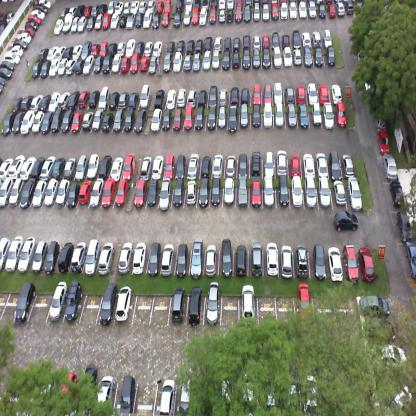car: (382, 383, 413, 415), (57, 372, 79, 416), (61, 289, 86, 326), (240, 370, 260, 415), (358, 293, 391, 319), (46, 290, 69, 326), (82, 364, 98, 415), (369, 346, 406, 368), (4, 232, 24, 272), (96, 288, 118, 324), (178, 371, 196, 415), (16, 235, 36, 273), (354, 240, 374, 277), (158, 374, 176, 415), (114, 289, 136, 322), (97, 375, 115, 415), (168, 291, 189, 325), (13, 289, 36, 320), (119, 372, 135, 416), (364, 320, 396, 342), (145, 240, 165, 275), (324, 242, 342, 280), (202, 293, 221, 329), (396, 210, 415, 246), (41, 239, 60, 273), (68, 240, 87, 274), (219, 377, 236, 415), (296, 282, 312, 322), (31, 238, 48, 275), (303, 374, 318, 415), (76, 176, 94, 210), (144, 177, 162, 211), (293, 243, 311, 277), (53, 241, 72, 273), (187, 292, 204, 327), (82, 240, 100, 273), (340, 241, 356, 278), (88, 174, 105, 208), (278, 244, 295, 278), (310, 242, 326, 278), (285, 380, 301, 416), (388, 178, 406, 210), (334, 208, 358, 232), (160, 241, 177, 274), (174, 243, 191, 276), (203, 241, 218, 278), (170, 176, 186, 210), (188, 242, 204, 276), (263, 243, 279, 277), (344, 176, 362, 206), (234, 241, 249, 277), (65, 176, 81, 209), (113, 177, 129, 210), (156, 178, 172, 211), (132, 240, 148, 273), (217, 242, 233, 275), (241, 284, 254, 324), (100, 178, 116, 210), (96, 244, 113, 274), (248, 240, 263, 274), (381, 152, 398, 182), (316, 177, 332, 208), (30, 178, 46, 209), (20, 178, 36, 209), (8, 178, 24, 209), (265, 378, 278, 416), (314, 148, 330, 178), (118, 242, 134, 272), (43, 178, 59, 207), (404, 242, 416, 280), (133, 177, 146, 212), (73, 154, 91, 179), (8, 154, 26, 179), (341, 149, 357, 177), (54, 178, 70, 206), (84, 153, 101, 179), (20, 154, 37, 180), (330, 179, 345, 208), (197, 179, 211, 210), (288, 180, 304, 207), (122, 106, 137, 134), (288, 147, 302, 177), (301, 148, 315, 178), (235, 179, 249, 209), (262, 178, 276, 208), (276, 179, 290, 209), (90, 106, 106, 132), (96, 154, 112, 180), (38, 154, 55, 178), (328, 148, 342, 177), (209, 180, 223, 209), (376, 126, 390, 155), (276, 148, 289, 179), (304, 178, 317, 209), (0, 177, 13, 208), (122, 155, 138, 180), (29, 155, 45, 180), (101, 107, 115, 135), (112, 107, 126, 135), (332, 101, 347, 127), (186, 152, 201, 178), (20, 109, 35, 135), (109, 155, 125, 179), (248, 150, 262, 177), (0, 237, 11, 271), (184, 179, 196, 210), (133, 108, 147, 134), (149, 154, 163, 180), (1, 110, 15, 136), (138, 155, 153, 179), (263, 147, 275, 177), (249, 179, 261, 209), (49, 156, 65, 178), (150, 106, 163, 133), (164, 152, 178, 177), (199, 152, 213, 177), (210, 152, 224, 177), (224, 179, 236, 208), (32, 109, 45, 135), (50, 109, 63, 135), (174, 153, 188, 177), (224, 150, 236, 178), (11, 111, 25, 135), (40, 112, 54, 135), (194, 107, 206, 133), (96, 84, 108, 110), (61, 108, 74, 132), (305, 82, 319, 104), (162, 107, 174, 132), (238, 105, 250, 130), (237, 152, 249, 177), (62, 156, 76, 177), (311, 102, 322, 128), (321, 104, 334, 126), (47, 90, 60, 112), (0, 51, 20, 65), (262, 105, 274, 128), (274, 105, 286, 128), (298, 105, 310, 128), (1, 156, 13, 179), (70, 111, 82, 134), (139, 83, 150, 108), (184, 106, 194, 133), (216, 107, 227, 131), (318, 83, 330, 105), (174, 108, 184, 134), (285, 83, 295, 109), (273, 81, 283, 107), (81, 110, 94, 130), (207, 85, 218, 108), (153, 89, 165, 110), (29, 92, 43, 110), (252, 105, 262, 130), (38, 92, 51, 111), (205, 108, 216, 130), (228, 106, 239, 128), (296, 84, 307, 106), (281, 44, 292, 66), (261, 47, 272, 69), (108, 90, 120, 110), (272, 45, 282, 69), (61, 12, 73, 32), (20, 94, 33, 112), (286, 105, 297, 126), (78, 90, 89, 111), (291, 46, 302, 67), (126, 91, 138, 110), (67, 90, 79, 109), (57, 91, 70, 108), (332, 82, 342, 104), (252, 84, 262, 106), (229, 85, 240, 105), (166, 89, 176, 111), (302, 45, 312, 67), (252, 29, 262, 51), (125, 37, 135, 59), (88, 90, 100, 108), (323, 26, 332, 50), (173, 50, 182, 74), (80, 40, 92, 58), (82, 57, 94, 75), (240, 86, 250, 107), (326, 46, 336, 67), (291, 27, 301, 48), (148, 53, 158, 74), (202, 49, 210, 75), (242, 47, 251, 70), (130, 52, 139, 75), (264, 82, 272, 107), (313, 47, 323, 67), (240, 31, 250, 51), (162, 51, 172, 71), (298, 0, 308, 20), (327, 0, 337, 20), (53, 18, 64, 36), (189, 8, 200, 26), (234, 3, 243, 25), (212, 48, 220, 72), (54, 45, 66, 61), (311, 28, 321, 47), (302, 29, 312, 48), (182, 53, 192, 72), (92, 55, 102, 74), (208, 6, 218, 25), (221, 50, 230, 71), (0, 60, 14, 73), (10, 44, 23, 58), (219, 87, 228, 107), (197, 89, 206, 109), (187, 88, 197, 106), (118, 90, 128, 108), (202, 36, 212, 54), (192, 51, 201, 71), (100, 39, 110, 57), (138, 54, 148, 72), (119, 55, 129, 73), (31, 60, 41, 78), (0, 66, 12, 81), (14, 38, 29, 50), (33, 1, 48, 13), (126, 12, 136, 30), (142, 10, 152, 28), (288, 2, 297, 22), (178, 86, 186, 108), (39, 61, 50, 77), (102, 56, 111, 75), (101, 12, 110, 31), (152, 10, 161, 29), (279, 2, 288, 21), (72, 43, 82, 60), (75, 58, 85, 75), (225, 7, 235, 24), (18, 31, 31, 44), (31, 8, 45, 20), (109, 14, 120, 29), (194, 38, 203, 56), (198, 8, 207, 26), (308, 0, 317, 18), (336, 0, 345, 18), (12, 96, 22, 112), (253, 48, 261, 68), (233, 33, 241, 53), (232, 50, 240, 70), (65, 60, 75, 76), (48, 61, 58, 77), (317, 0, 325, 20), (63, 45, 74, 59), (38, 48, 49, 62), (27, 14, 41, 25), (154, 0, 165, 14), (160, 12, 171, 26), (272, 30, 280, 49), (112, 53, 120, 72), (135, 11, 143, 30), (183, 8, 191, 27), (244, 4, 252, 23), (253, 4, 261, 23), (116, 41, 126, 56), (56, 61, 66, 76), (162, 0, 172, 15), (86, 16, 96, 31), (94, 14, 104, 29), (262, 32, 270, 50), (224, 34, 233, 50), (153, 40, 162, 56), (47, 45, 56, 61), (26, 19, 38, 31), (119, 13, 128, 29), (173, 11, 181, 29), (262, 3, 270, 21), (114, 1, 124, 15), (78, 16, 86, 33), (218, 7, 226, 24), (61, 4, 70, 19), (107, 42, 117, 55), (144, 40, 152, 56), (213, 36, 222, 50), (91, 42, 100, 56), (76, 3, 85, 17), (138, 0, 147, 14), (271, 3, 278, 21), (24, 27, 35, 38), (39, 1, 51, 11), (71, 15, 79, 30), (346, 0, 354, 15), (122, 1, 131, 14), (130, 1, 139, 14), (282, 32, 289, 48), (186, 40, 194, 54), (136, 40, 144, 54), (107, 0, 115, 14), (176, 39, 186, 50), (146, 0, 156, 11), (98, 3, 107, 15), (175, 0, 184, 12), (167, 40, 175, 52), (84, 4, 92, 16), (91, 5, 98, 17), (68, 4, 76, 14), (185, 0, 193, 9)
